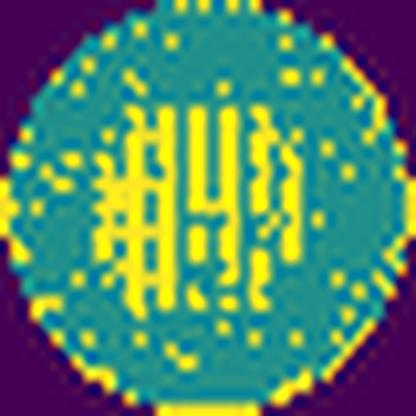Center: (91, 105, 301, 312)
